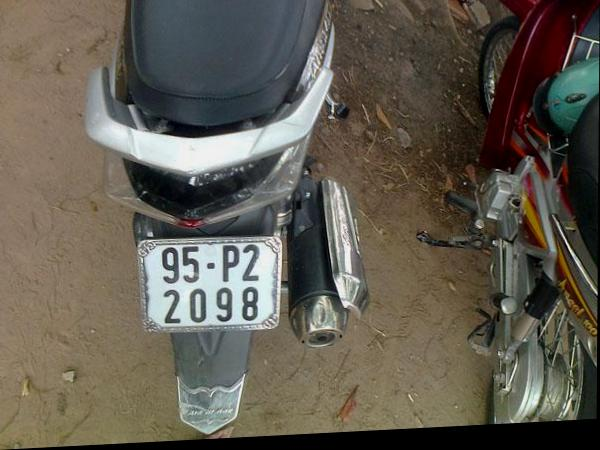License_Plate: (143, 232, 281, 334)
